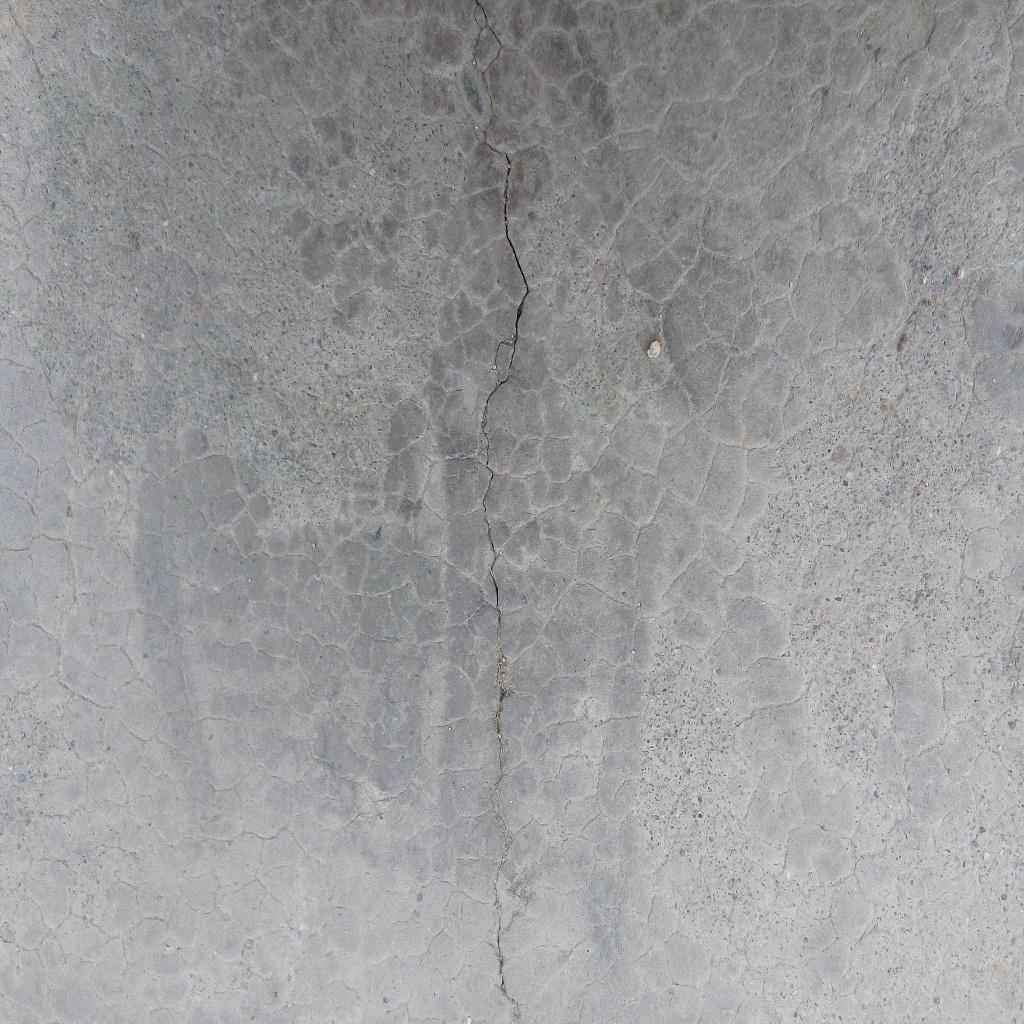Crack: (482, 1, 531, 1024)
